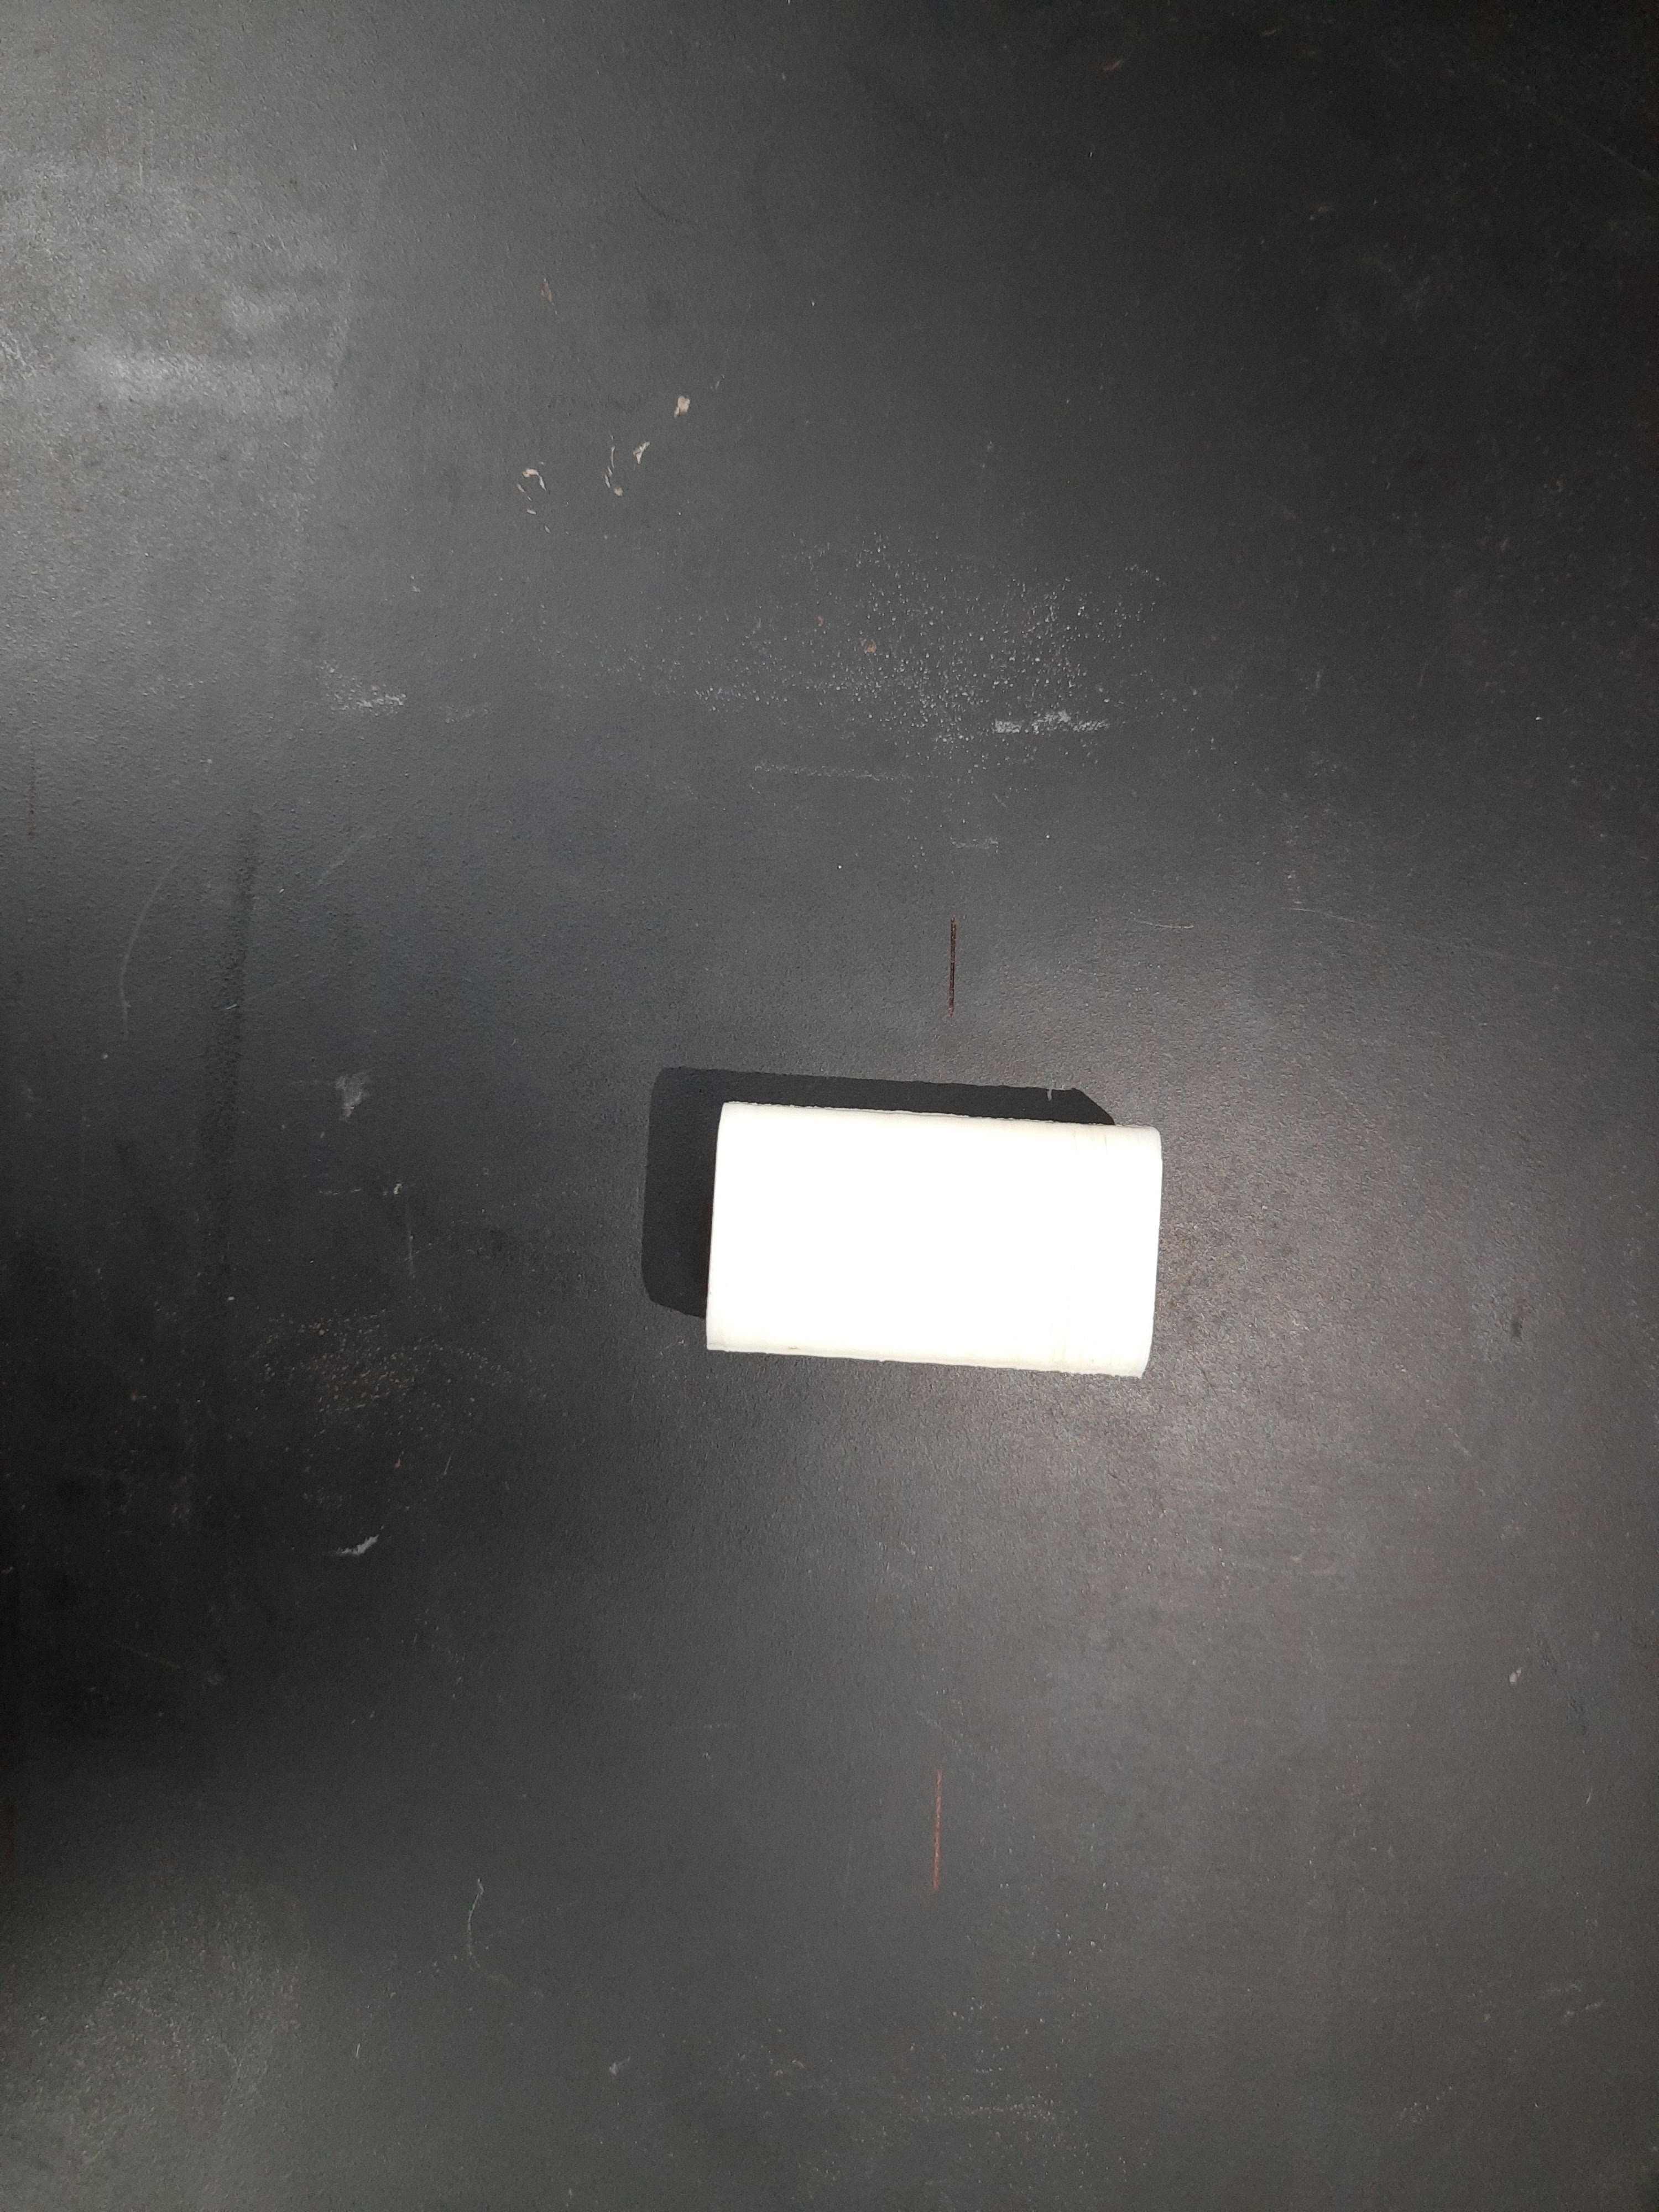CUBE: (704, 1099, 1162, 1374)
